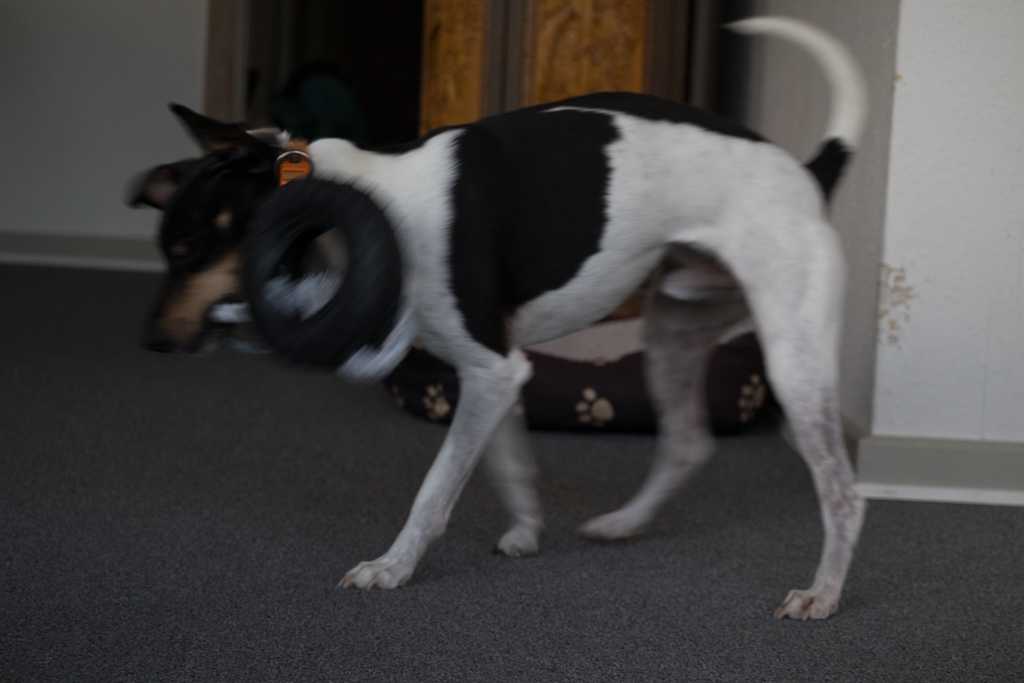Dog: (102, 7, 906, 625)
